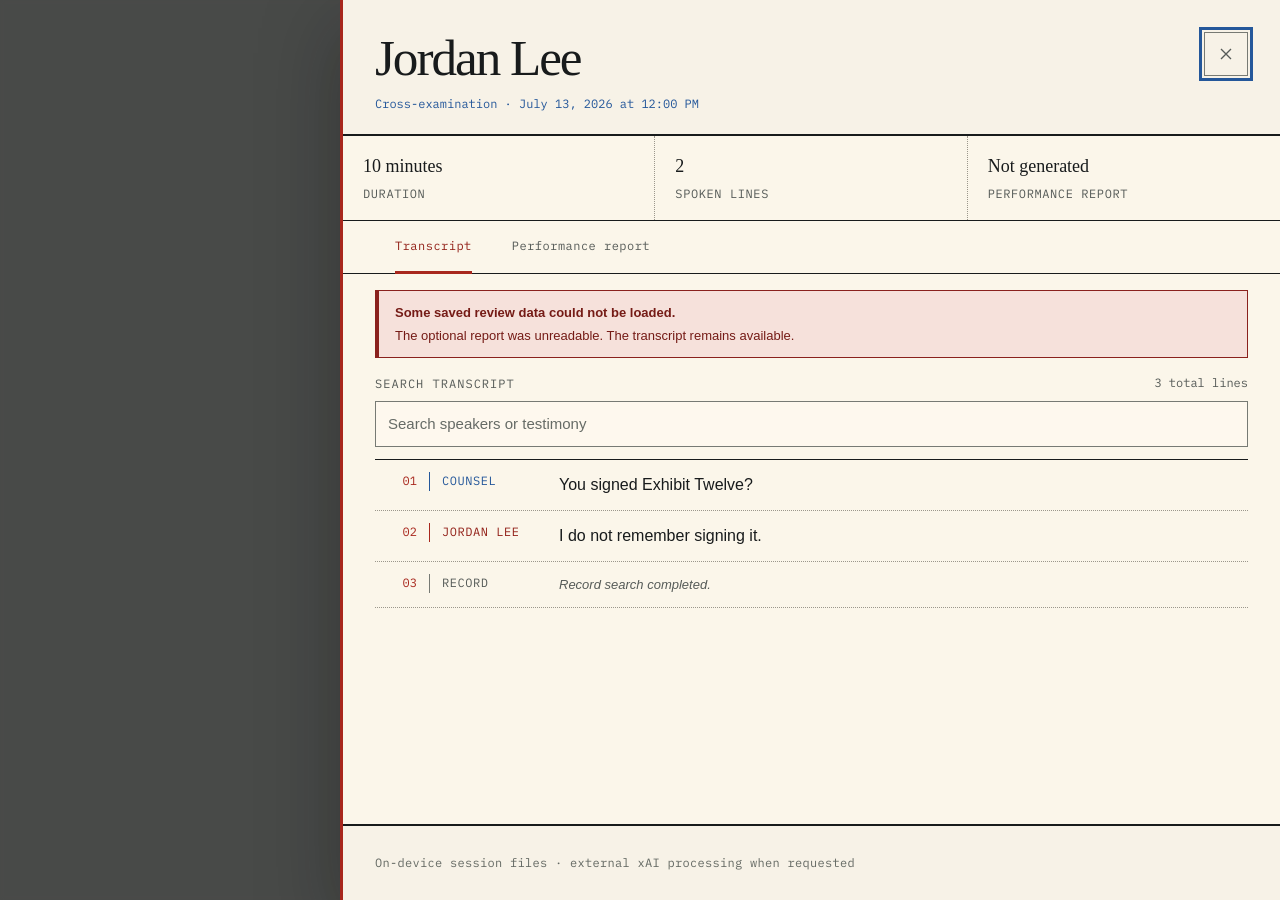
Test: SessionReviewDrawer transcript search › filters by speaker or testimony and preserves original line numbers
Expected: the 1st message shows "optional report was unreadable", [395, 328, 603, 343]
Type "jordan" into the search field labelled "Search transcript". click: (812, 424)
box: [375, 401, 1248, 447]
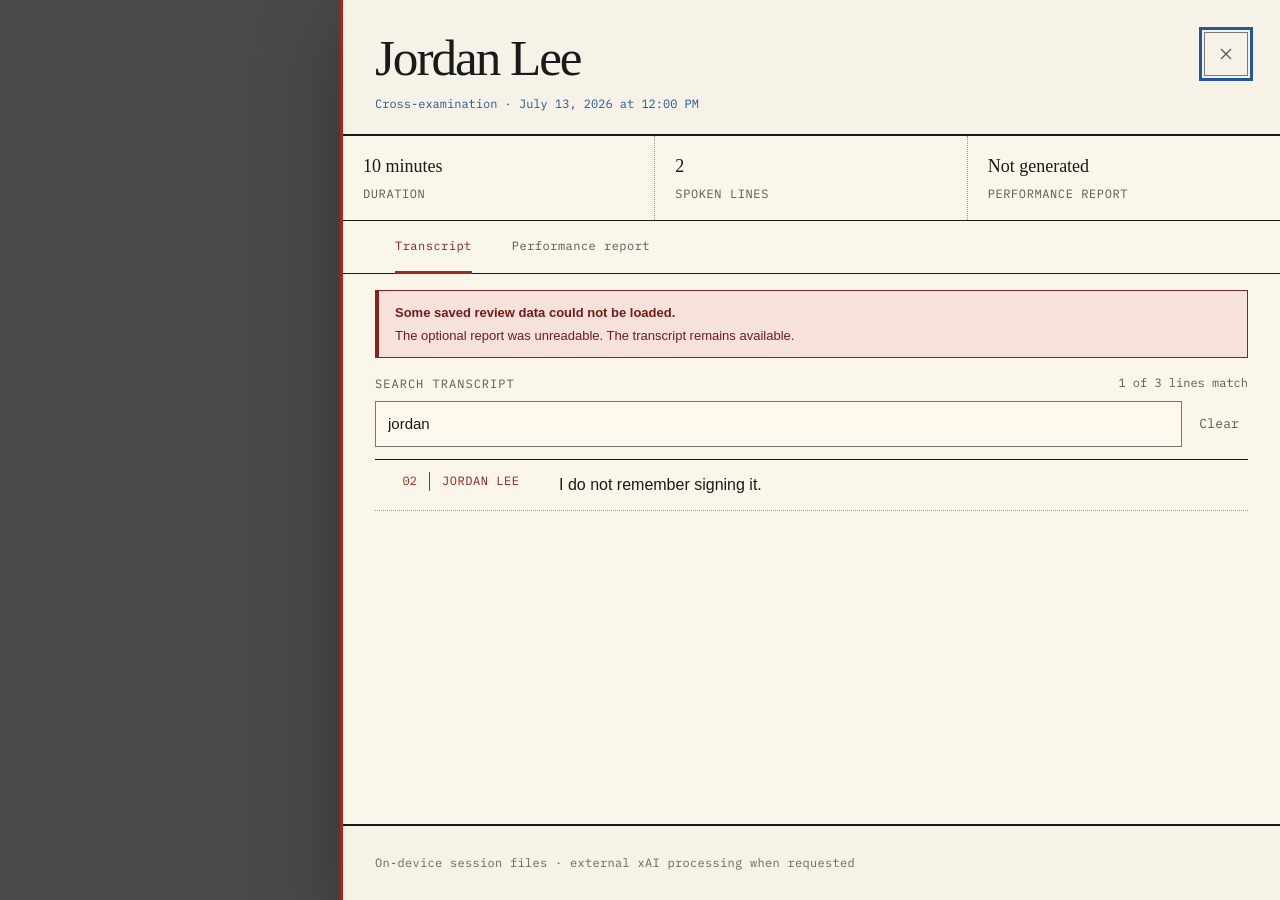
Expected: the text "I do not remember signing it." is shown, [559, 476, 762, 493]
Result: the message "1 of 3 lines match" is shown at [1118, 374, 1248, 393]
Result: the text "You signed Exhibit Twelve?" is gone
Press ArrowRight in the tab "Transcript", box [375, 220, 492, 272]
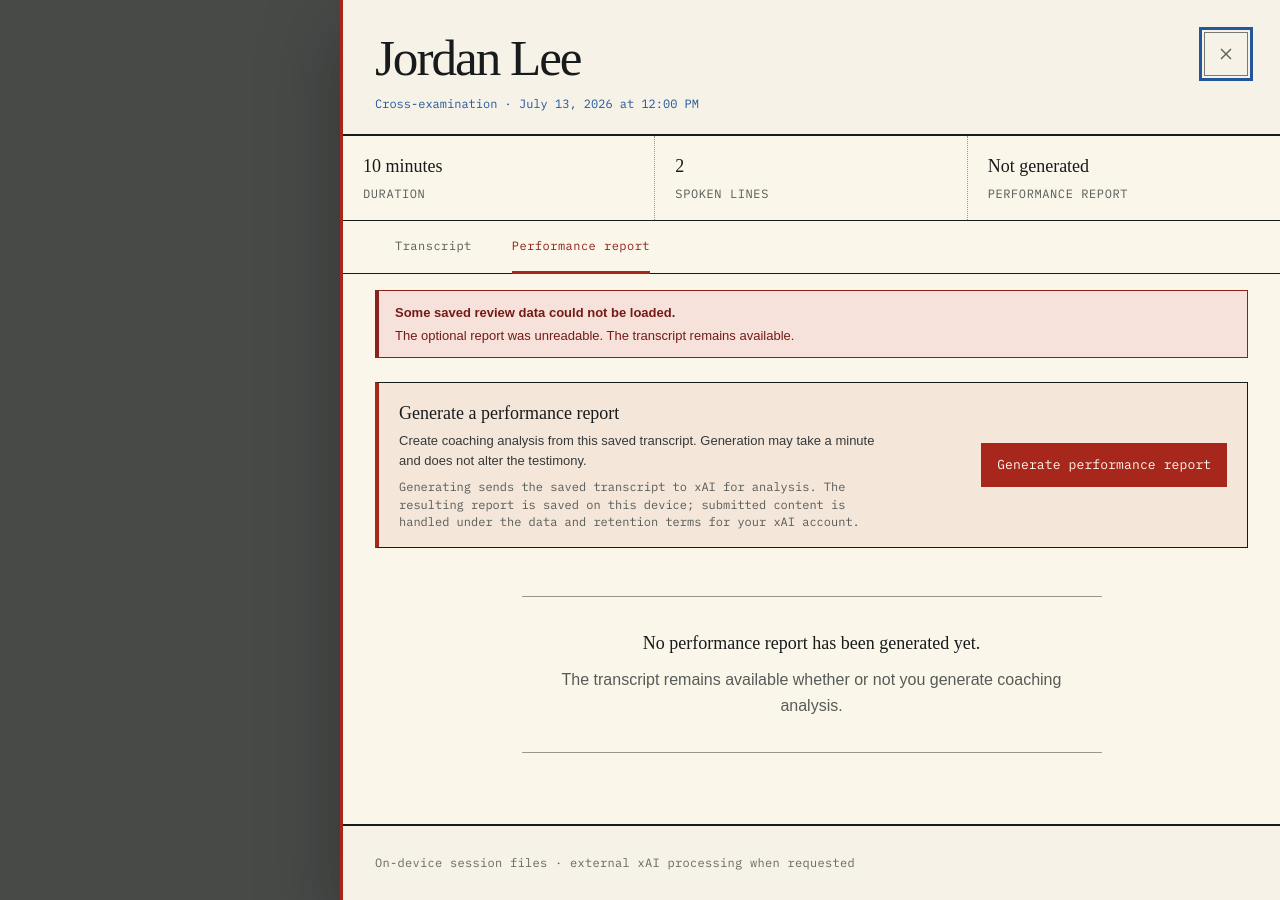
Result: the tab "Performance report" is selected
Press ArrowLeft in the tab "Performance report", box [492, 220, 670, 272]
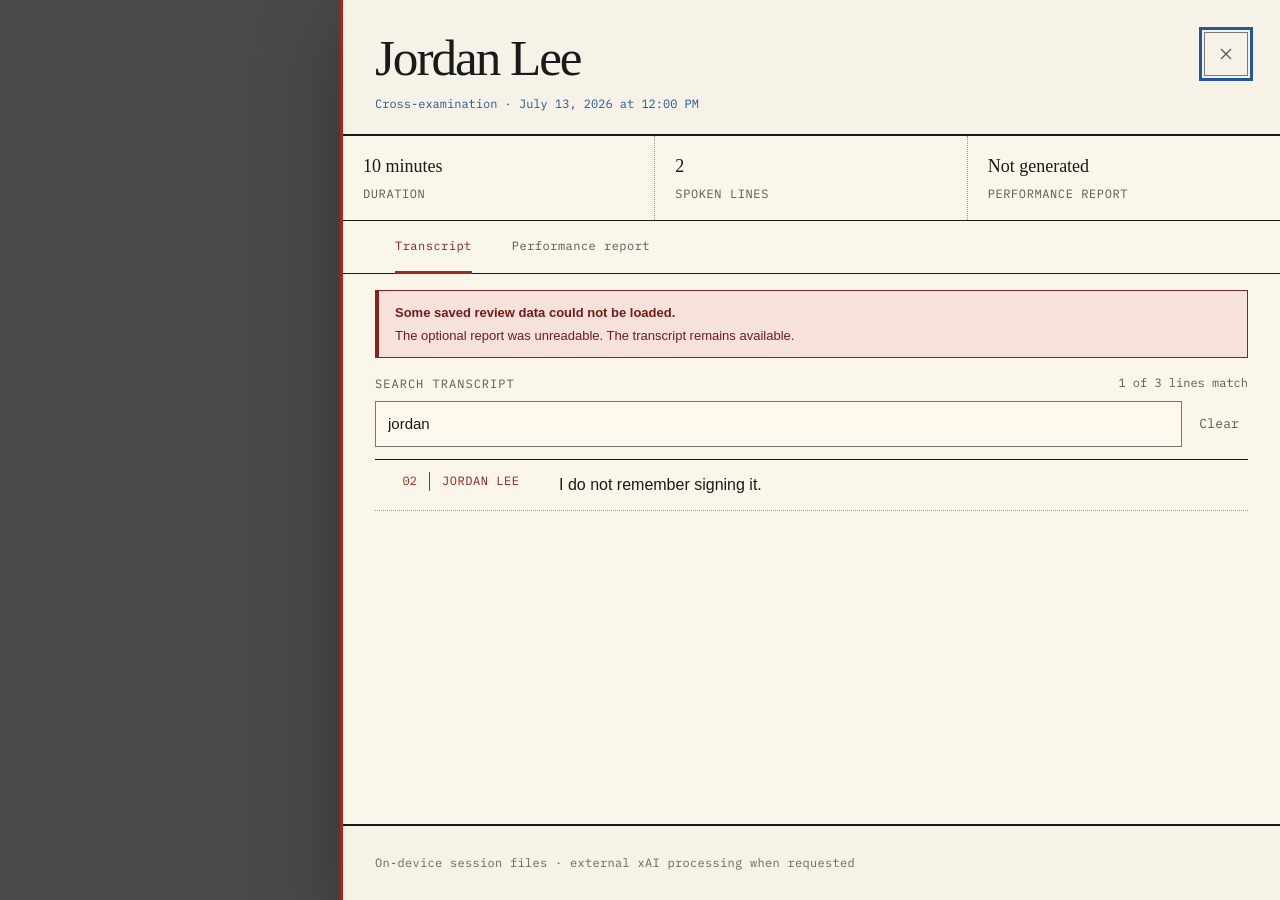
Result: the tab "Transcript" is selected at [375, 220, 492, 272]
Replace the text in the search field labelled "Search transcript" with "missing phrase". click: (779, 424)
box: [375, 401, 1182, 447]
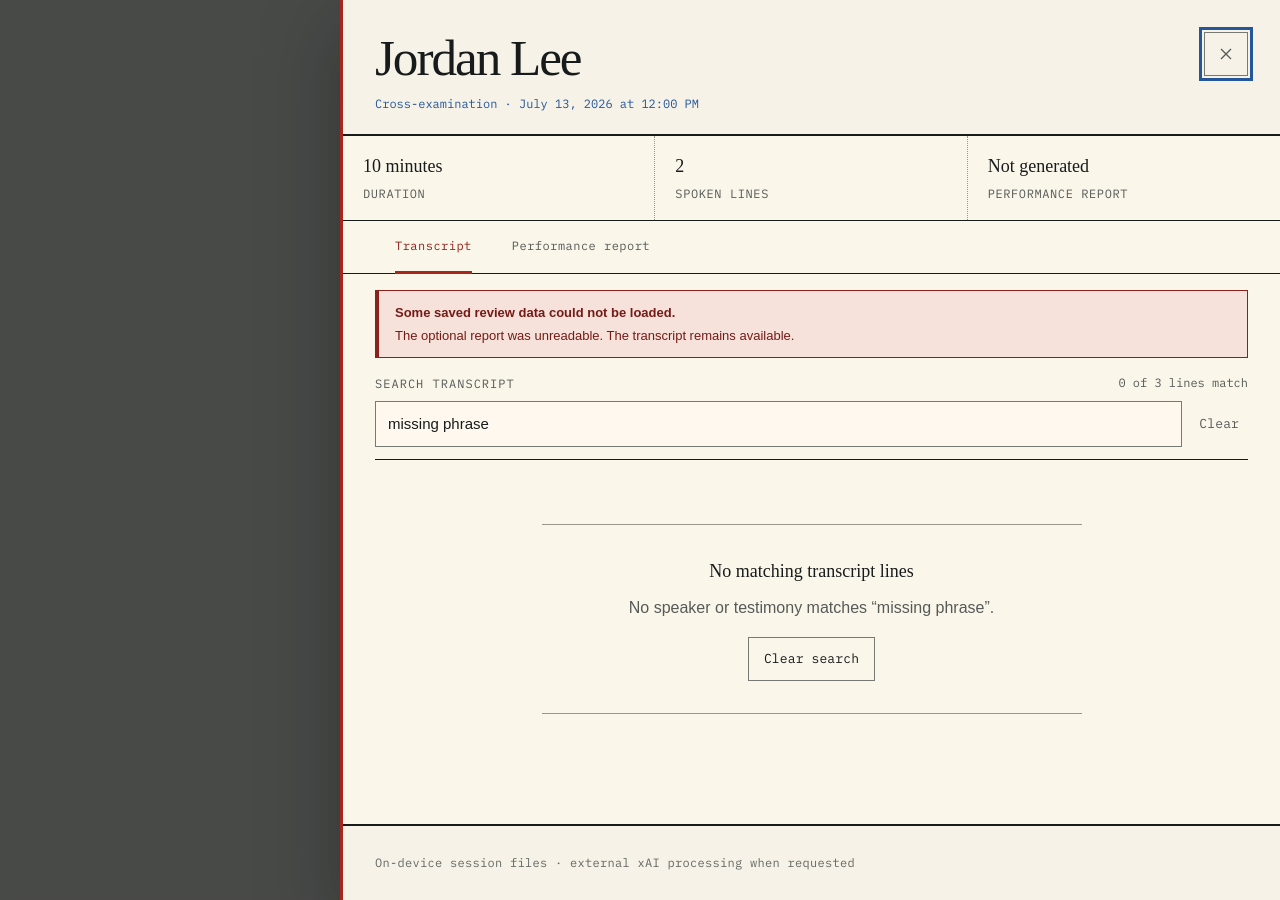
Result: the text "No matching transcript lines" is shown at [709, 561, 914, 581]
Click the button "Clear search". click: (812, 659)
box: [748, 637, 875, 681]
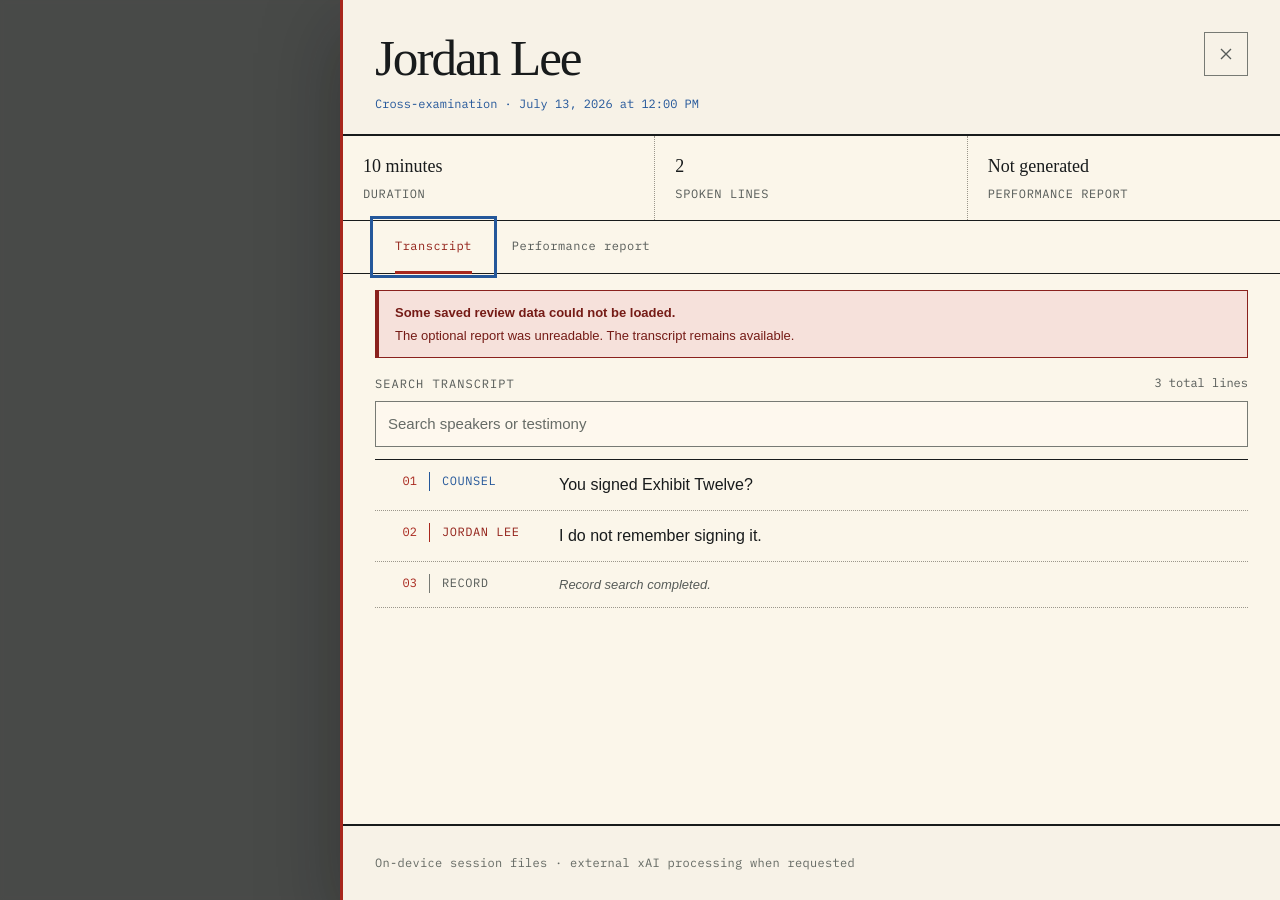
Result: the message "3 total lines" is shown at [1154, 374, 1248, 393]
